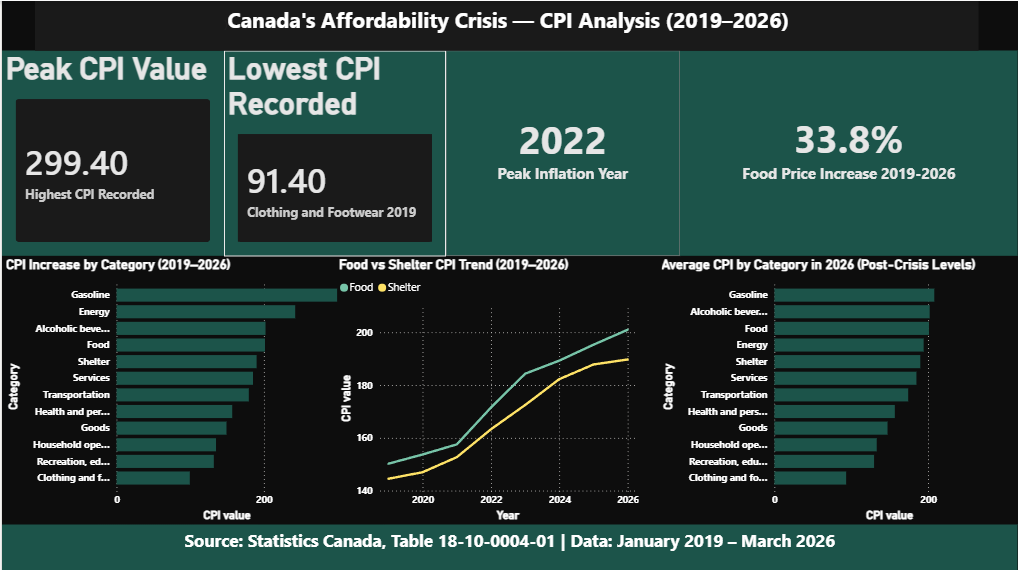

Layout of this report page (visuals, bound fields, positions):
{"tool":"powerbi","page":{"name":"Page 1","canvas":[1280,720],"ordinal":0},"visuals":[{"type":"cardVisual","title":"Peak CPI Value","fields":{"Data":["Max(cpi_clean.cpi_value)"]},"box":[0,62.4,279.7,258.9],"z":0},{"type":"cardVisual","title":"Lowest CPI Recorded","fields":{"Data":["Min(cpi_clean.cpi_value)"]},"box":[279.7,62.4,279.7,258.9],"z":1000},{"type":"textbox","box":[559.4,62.4,294.8,258.9],"z":2000},{"type":"textbox","box":[854.2,62.4,425.2,258.9],"z":3000},{"type":"clusteredBarChart","title":"CPI Increase by Category (2019–2026)","fields":{"Category":["cpi_clean.product_group"],"Y":["Max(cpi_clean.cpi_value)"]},"box":[0,321.3,438.4,338.3],"z":4000},{"type":"lineChart","title":"Food vs Shelter CPI Trend (2019–2026)","fields":{"Category":["cpi_clean.month_year.Variation.Date Hierarchy.Year","cpi_clean.month_year.Variation.Date Hierarchy.Quarter","cpi_clean.month_year.Variation.Date Hierarchy.Month","cpi_clean.month_year.Variation.Date Hierarchy.Day"],"Y":["Avg(cpi_clean.cpi_value)"],"Series":["cpi_clean.product_group"]},"box":[419.5,321.3,387.4,338.3],"z":5000},{"type":"clusteredBarChart","title":"Average CPI by Category in 2026 (Post-Crisis Levels)","fields":{"Category":["cpi_clean.product_group"],"Y":["Avg(cpi_clean.cpi_value)"]},"box":[825.8,321.3,453.5,338.3],"z":6000},{"type":"textbox","box":[41.6,0,1188.7,62.4],"z":7000},{"type":"textbox","box":[0,659.5,1279.4,60.5],"z":7001}]}

Visuals, with their boxes in screenshot pixels (x1, y1, x2, y2), scaled from the page's 1280x720 canvas onto the 1018x570 screenshot:
"Peak CPI Value" cardVisual: x1=0 y1=49 x2=222 y2=254
"Lowest CPI Recorded" cardVisual: x1=222 y1=49 x2=445 y2=254
textbox: x1=445 y1=49 x2=679 y2=254
textbox: x1=679 y1=49 x2=1017 y2=254
"CPI Increase by Category (2019–2026)" clusteredBarChart: x1=0 y1=254 x2=349 y2=522
"Food vs Shelter CPI Trend (2019–2026)" lineChart: x1=334 y1=254 x2=642 y2=522
"Average CPI by Category in 2026 (Post-Crisis Levels)" clusteredBarChart: x1=657 y1=254 x2=1017 y2=522
textbox: x1=33 y1=0 x2=978 y2=49
textbox: x1=0 y1=522 x2=1017 y2=569
